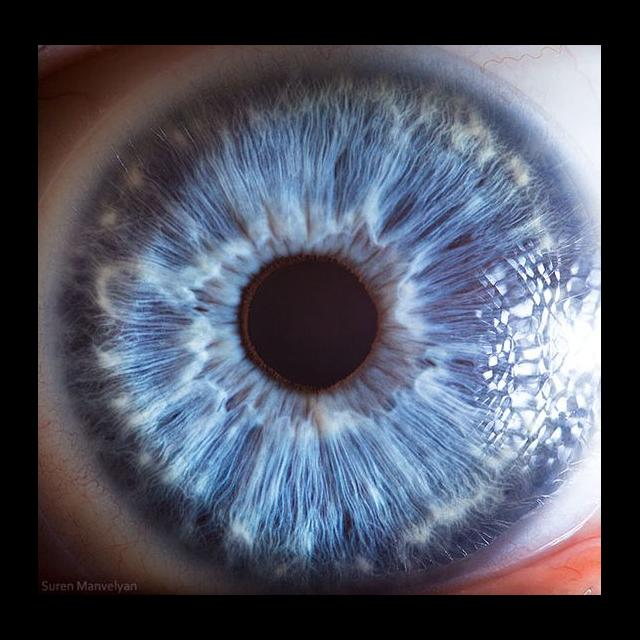iris: (59, 51, 600, 585)
